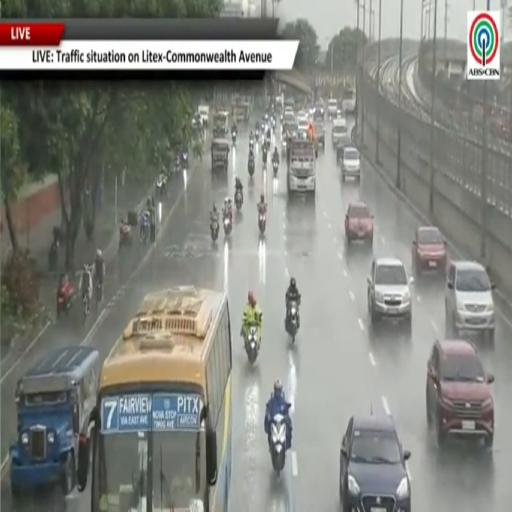bus: (78, 287, 232, 511)
car: (426, 340, 494, 447), (339, 415, 411, 511), (445, 261, 495, 341), (367, 258, 413, 329), (412, 227, 446, 275), (345, 202, 373, 245), (341, 147, 360, 181), (336, 134, 352, 165), (332, 119, 347, 148), (313, 121, 324, 149), (327, 99, 338, 119), (297, 116, 309, 131), (315, 101, 324, 120), (282, 111, 295, 124), (307, 104, 315, 118), (297, 110, 308, 119), (284, 106, 294, 115)
jeepney: (10, 346, 100, 498), (212, 138, 230, 172), (232, 98, 251, 122), (213, 110, 229, 138), (313, 121, 325, 149)
motorcycle: (271, 414, 287, 476), (244, 325, 259, 365), (286, 301, 299, 342), (57, 287, 74, 317), (119, 224, 133, 248), (48, 238, 58, 271), (141, 216, 149, 245), (156, 176, 166, 199), (95, 280, 102, 311), (210, 219, 219, 242), (83, 294, 89, 325), (259, 212, 266, 235), (235, 189, 242, 211), (224, 216, 232, 235), (181, 151, 188, 169), (248, 159, 254, 177), (273, 160, 279, 178), (262, 148, 267, 166), (265, 134, 271, 148), (271, 117, 276, 131), (249, 139, 254, 151), (232, 132, 236, 147), (256, 128, 259, 140)
truck: (287, 139, 316, 196), (342, 88, 356, 115), (198, 105, 209, 127)
